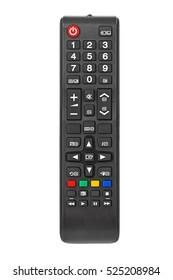Remote control: (59, 15, 121, 246)
